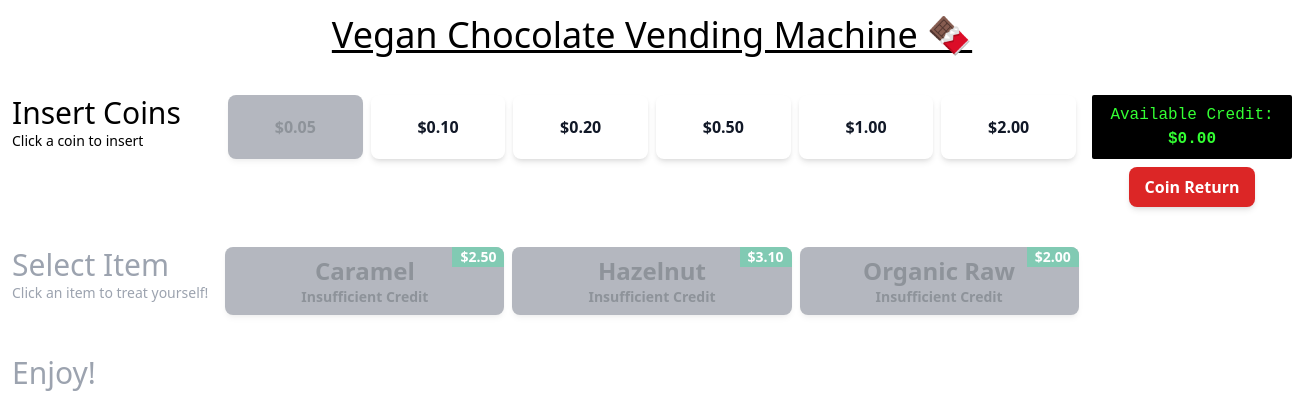
Test case: vending machine tests › should return coins when requested
Click the button "$0.50" at (723, 127), box [656, 95, 791, 159]
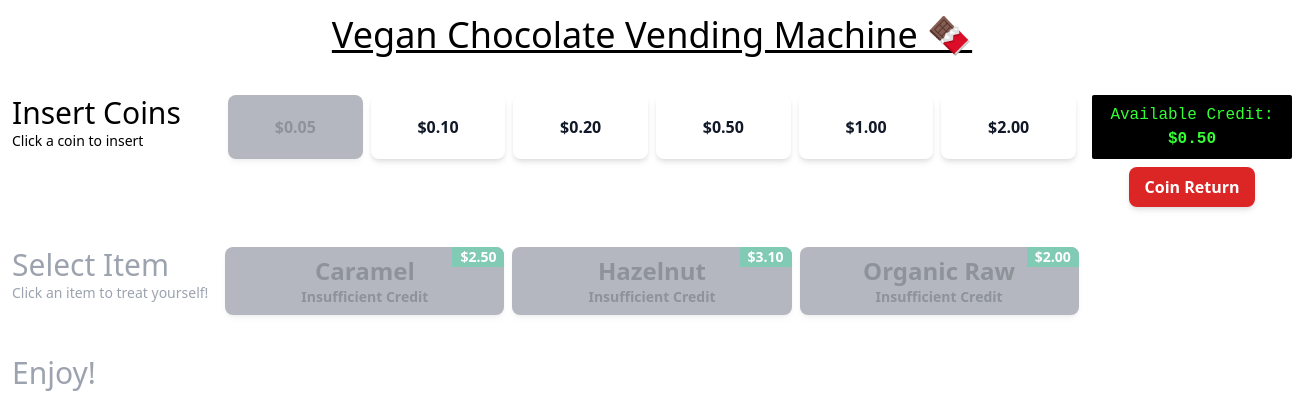
Click the button "$1.00" at (866, 127), box [799, 95, 933, 159]
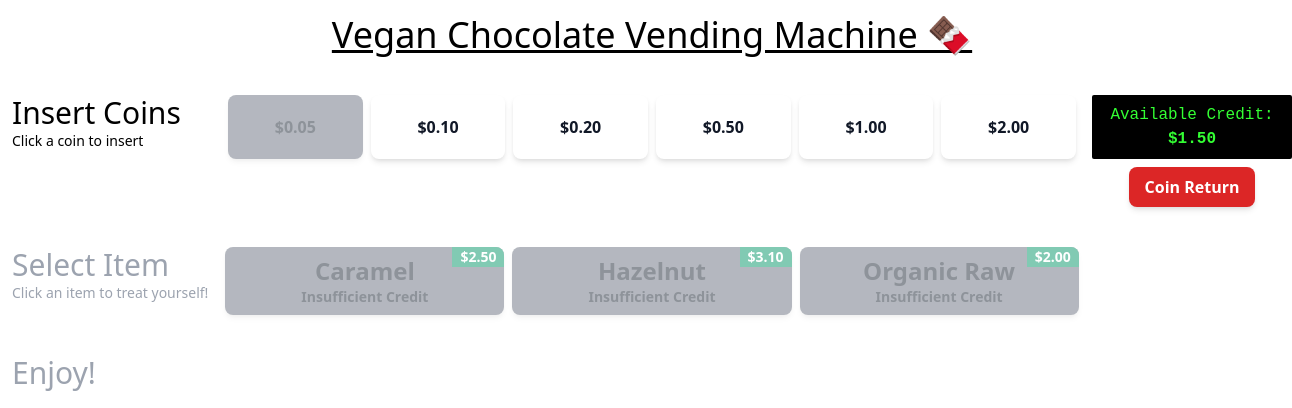
Click the button "$1.00" at (866, 127), box [799, 95, 933, 159]
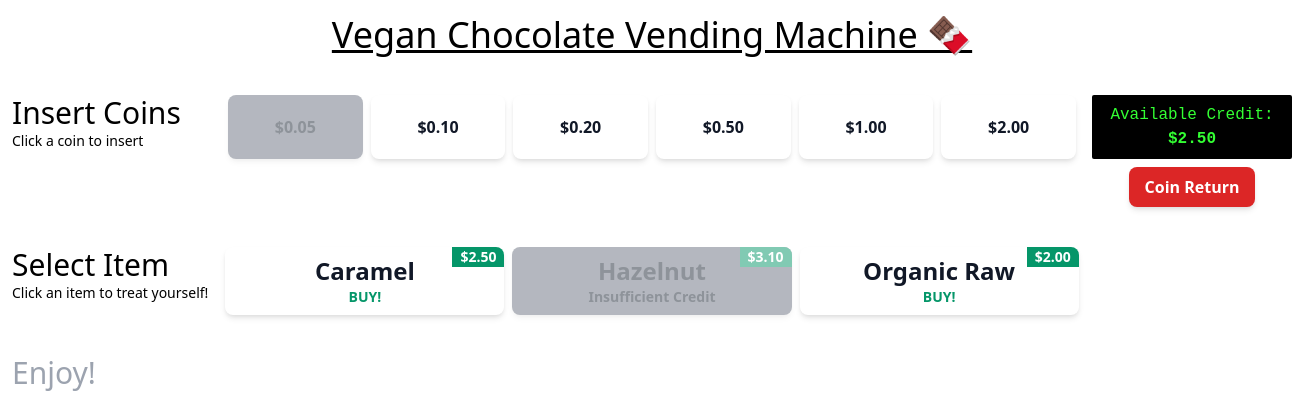
Click the button "$2.00" at (1009, 127), box [941, 95, 1076, 159]
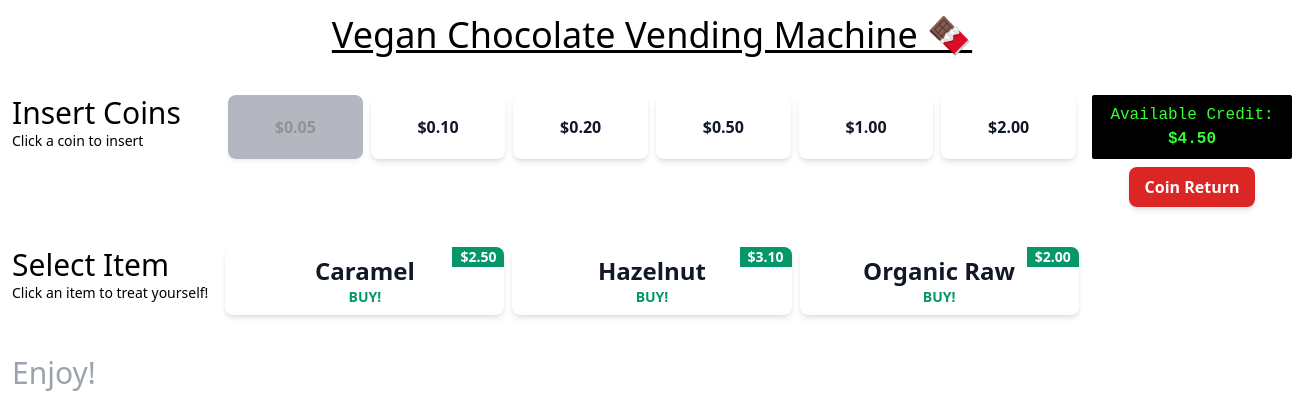
Now the text "$4.50" is shown, box [1168, 130, 1216, 148]
Click the button "Coin Return" at (1192, 187), box [1128, 167, 1255, 207]
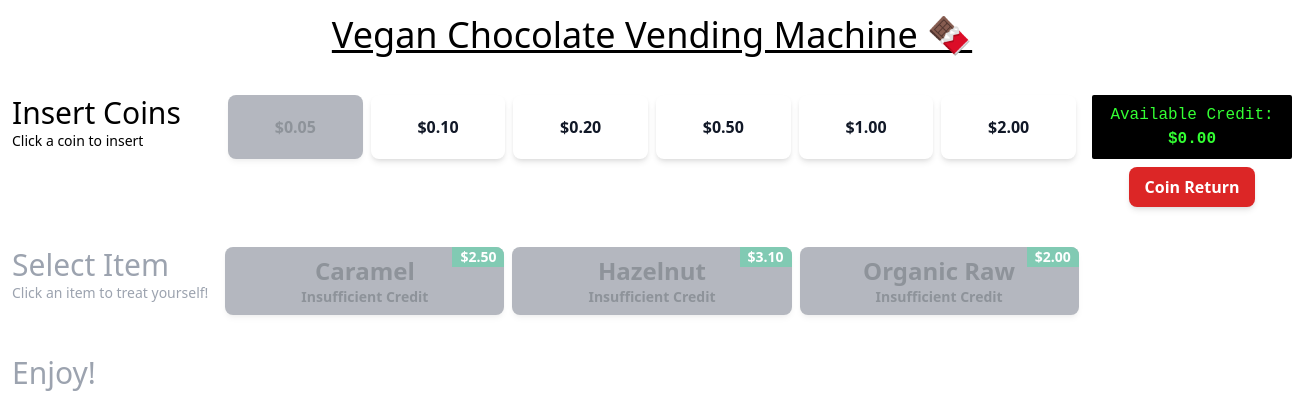
Now the text "$0.00" is shown, box [1168, 130, 1216, 148]
